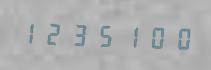five: (92, 19, 116, 50)
one: (17, 16, 41, 47), (117, 20, 141, 51)
three: (67, 18, 91, 49)
two: (42, 17, 66, 48)
zero: (142, 21, 166, 52), (167, 22, 191, 53)
